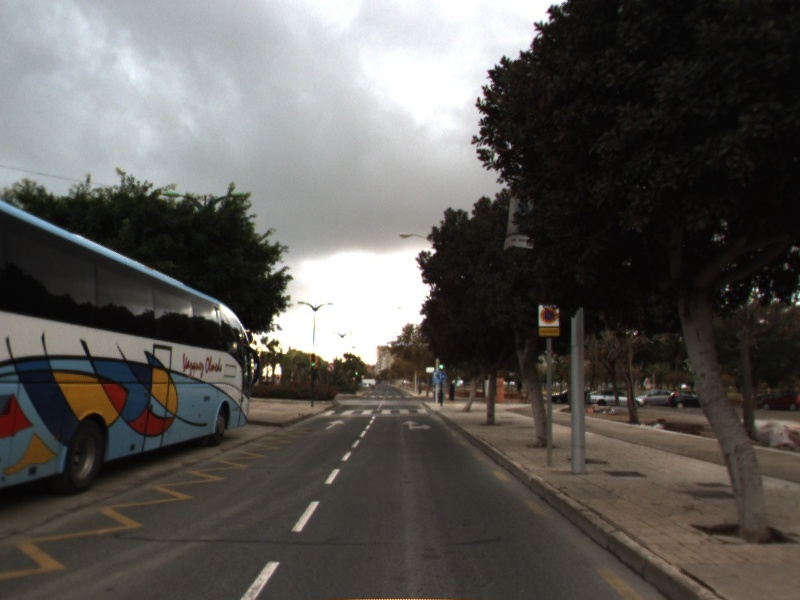STRAIGHT: (322, 418, 348, 432)
STRAIGHT_RIGHT: (400, 418, 435, 433)
